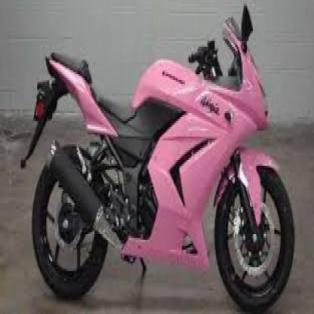Motocicleta: (17, 1, 298, 313)
